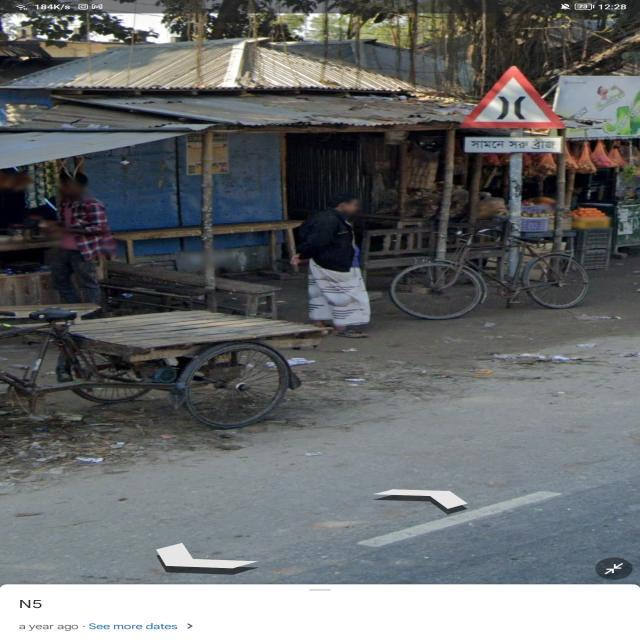Ahead-of-the-bridge: (456, 61, 569, 164)
